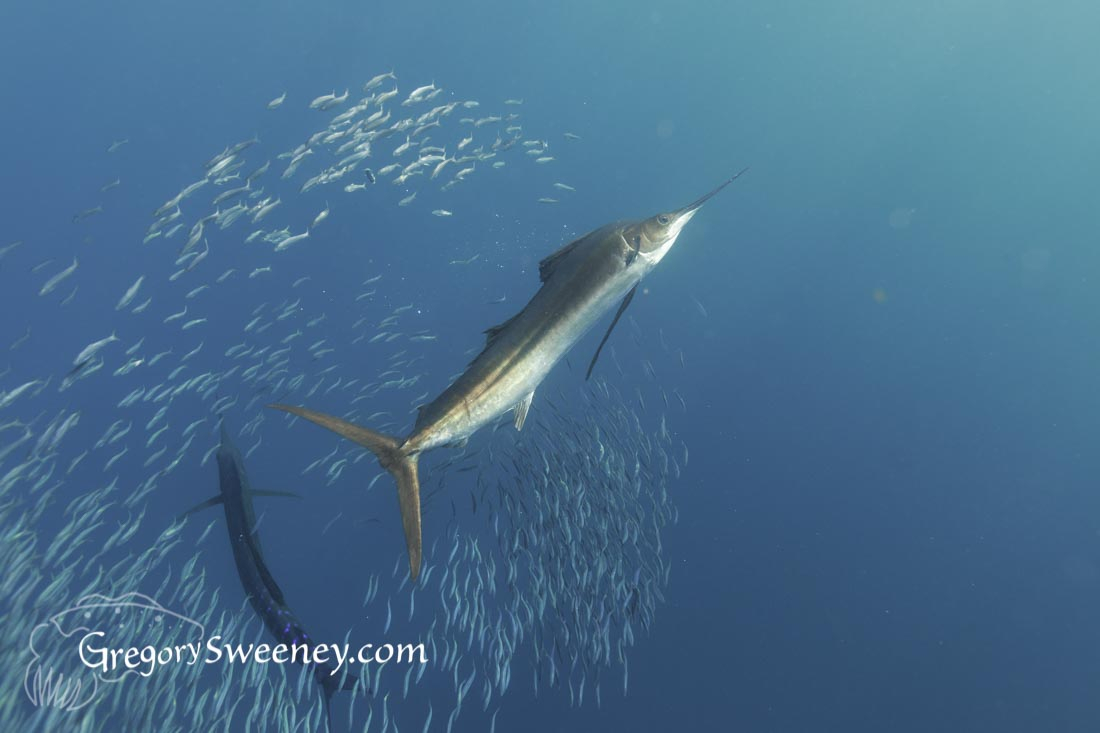swordfish: (253, 151, 759, 601)
